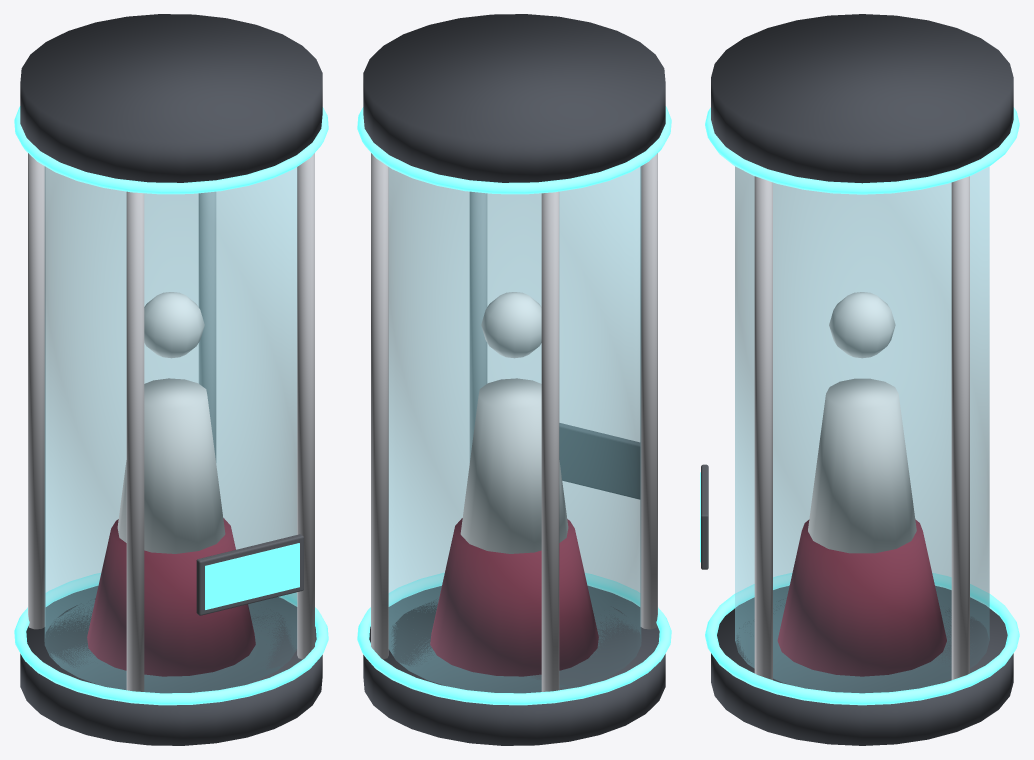
Rendered from cryo_pod_upright.glb.
3 views of the same model, side by side, from view 1: azimuth 30°, elevation 25°; view 2: azimuth 150°, elevation 25°; view 3: azimuth 270°, elevation 25° (orthographic).
Parts seen in each view (by area): view 1: GD_cryo_pod_upright__m4, GD_cryo_pod_upright__m0, GD_cryo_pod_upright__m6, GD_cryo_pod_upright__m3, GD_cryo_pod_upright__m5, GD_cryo_pod_upright__m7, GD_cryo_pod_upright__m2, GD_cryo_pod_upright__m1; view 2: GD_cryo_pod_upright__m4, GD_cryo_pod_upright__m0, GD_cryo_pod_upright__m6, GD_cryo_pod_upright__m5, GD_cryo_pod_upright__m3, GD_cryo_pod_upright__m7, GD_cryo_pod_upright__m1; view 3: GD_cryo_pod_upright__m4, GD_cryo_pod_upright__m0, GD_cryo_pod_upright__m5, GD_cryo_pod_upright__m6, GD_cryo_pod_upright__m3, GD_cryo_pod_upright__m7, GD_cryo_pod_upright__m1.
Part boxes in pixels (<box>): GD_cryo_pod_upright__m4: <box>44,166,297,693</box>; GD_cryo_pod_upright__m0: <box>20,14,322,745</box>; GD_cryo_pod_upright__m6: <box>28,153,314,691</box>; GD_cryo_pod_upright__m3: <box>117,292,225,553</box>; GD_cryo_pod_upright__m5: <box>87,518,255,676</box>; GD_cryo_pod_upright__m7: <box>14,106,328,705</box>; GD_cryo_pod_upright__m2: <box>205,543,299,609</box>; GD_cryo_pod_upright__m1: <box>196,534,303,615</box>; GD_cryo_pod_upright__m4: <box>388,166,641,693</box>; GD_cryo_pod_upright__m0: <box>363,14,665,745</box>; GD_cryo_pod_upright__m6: <box>371,153,657,691</box>; GD_cryo_pod_upright__m5: <box>430,518,598,676</box>; GD_cryo_pod_upright__m3: <box>460,292,568,553</box>; GD_cryo_pod_upright__m7: <box>357,106,671,705</box>; GD_cryo_pod_upright__m1: <box>559,423,640,499</box>; GD_cryo_pod_upright__m4: <box>735,166,989,693</box>; GD_cryo_pod_upright__m0: <box>711,14,1013,745</box>; GD_cryo_pod_upright__m5: <box>777,519,946,676</box>; GD_cryo_pod_upright__m6: <box>754,176,969,679</box>; GD_cryo_pod_upright__m3: <box>808,292,916,553</box>; GD_cryo_pod_upright__m7: <box>705,107,1019,705</box>; GD_cryo_pod_upright__m1: <box>701,464,708,569</box>.
Bounding box in the file's own units: 1.04 × 2.2 × 1.06.
